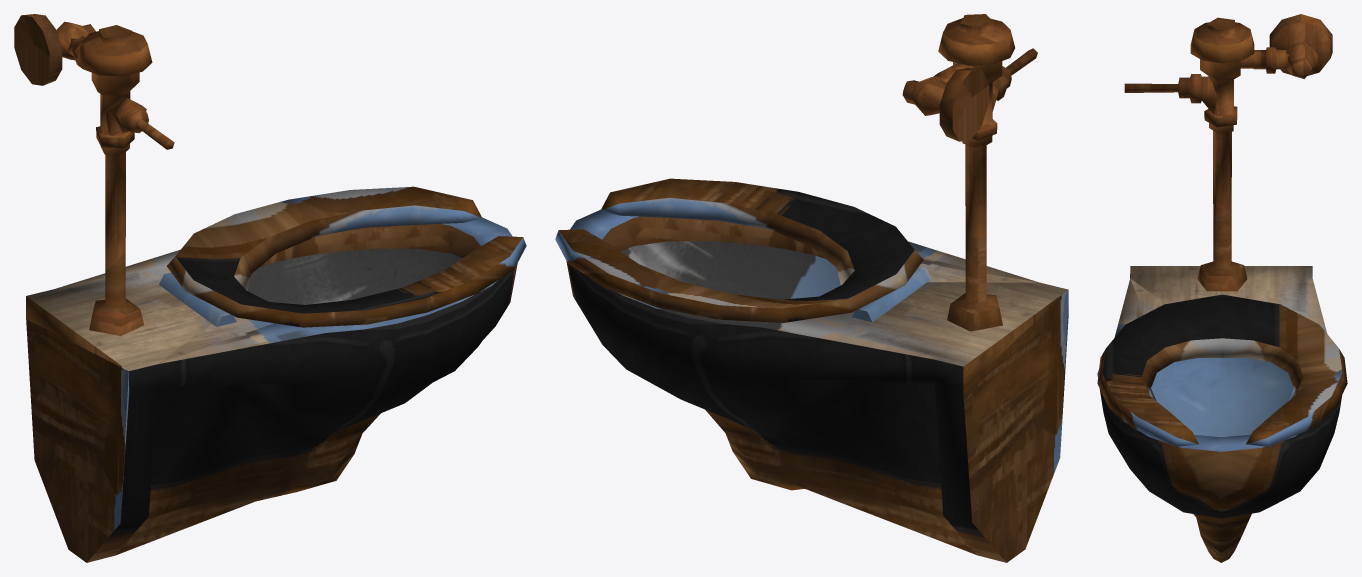
File: Toilet.fbx
3 renders of one model, left to right at view 1: azimuth 30°, elevation 25°; view 2: azimuth 150°, elevation 25°; view 3: azimuth 270°, elevation 25°, orthographic. The views are drawn at different scales.
Visible parts, largest first — view 1: Toilet; view 2: Toilet; view 3: Toilet.
Part boxes in pixels (box(x1,y1,x2,y2)): Toilet: box(14, 14, 526, 562); Toilet: box(555, 14, 1068, 562); Toilet: box(1097, 14, 1347, 562).
Bounding box in the file's own units: 1.24 × 1.41 × 0.7015.
